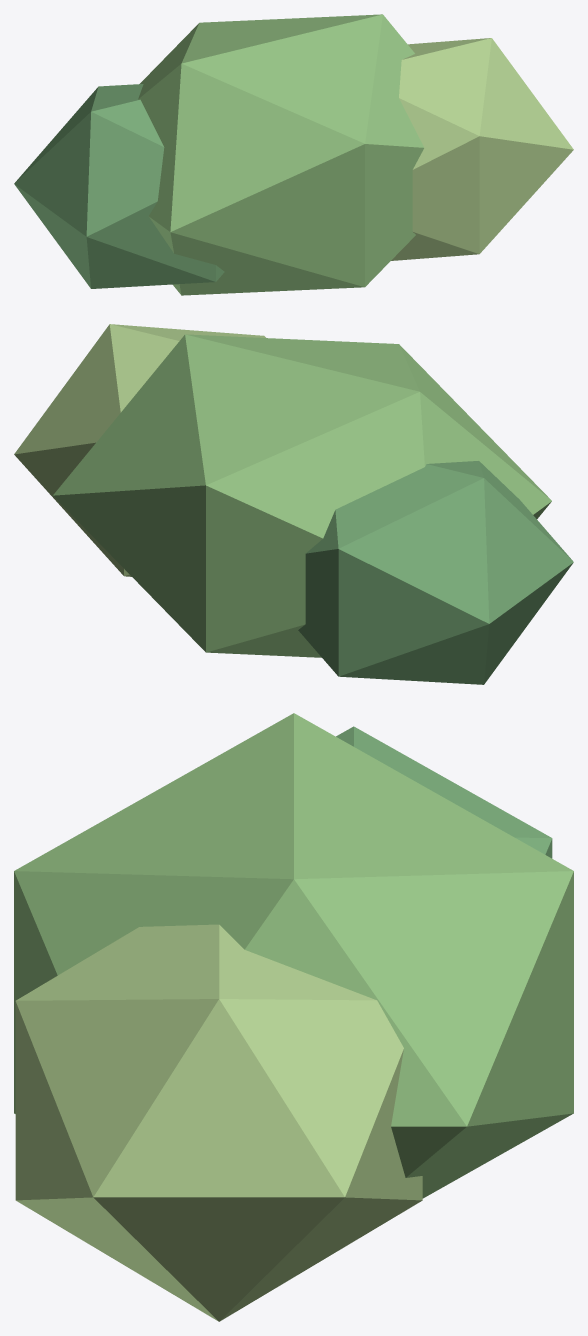
The model's file is shrub_a_round.glb.
The picture shows the model from 3 angles, top to bottom: view 1: azimuth 30°, elevation 25°; view 2: azimuth 150°, elevation 25°; view 3: azimuth 270°, elevation 25°; orthographic projection. The views are drawn at different scales.
Visible parts, largest first — view 1: leaf_0, leaf_1, leaf_2; view 2: leaf_0, leaf_2, leaf_1; view 3: leaf_0, leaf_1, leaf_2.
Boxes of the visible parts, box(x1,y1,x2,y2) form: leaf_0: box(138, 14, 424, 295); leaf_1: box(391, 38, 573, 260); leaf_2: box(14, 84, 224, 288); leaf_0: box(53, 334, 551, 657); leaf_2: box(298, 461, 573, 684); leaf_1: box(14, 324, 265, 576); leaf_0: box(14, 713, 573, 1198); leaf_1: box(15, 924, 422, 1321); leaf_2: box(336, 726, 552, 858).
Size of the model in its own units: 2.91 by 1.45 by 1.87.
